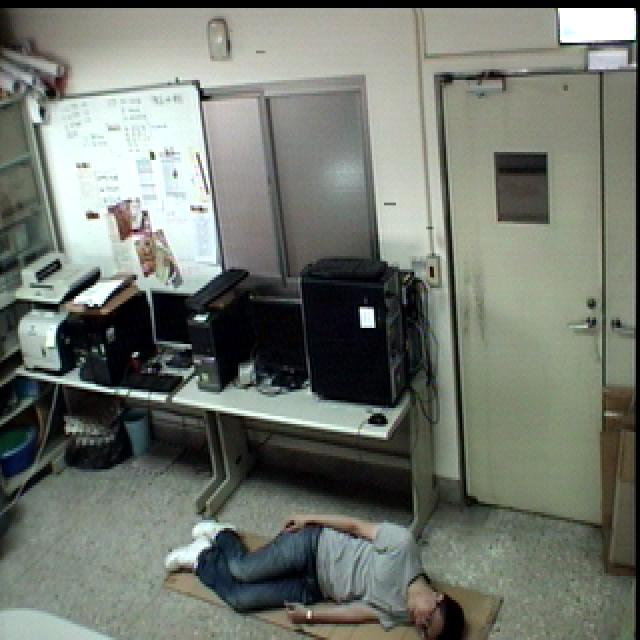lie: (157, 495, 471, 640)
